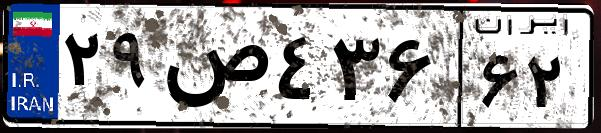2: (57, 26, 110, 100), (525, 38, 570, 115)
3: (330, 28, 385, 110)
4: (270, 28, 330, 110)
6: (385, 28, 445, 110), (475, 38, 525, 113)
9: (110, 28, 158, 98)
ص: (158, 20, 270, 120)
